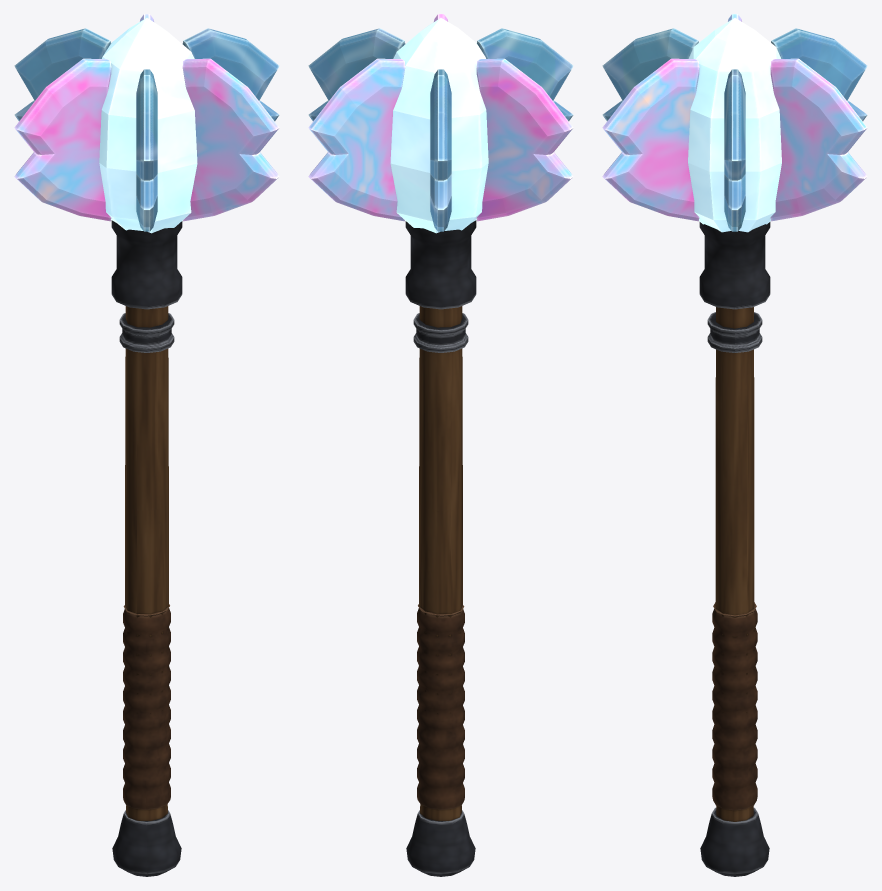
Rendered from crystal-weapon-mace.glb.
3 renders of one model, left to right at view 1: azimuth 30°, elevation 25°; view 2: azimuth 150°, elevation 25°; view 3: azimuth 270°, elevation 25°, orthographic.
Visible parts, largest first — view 1: head-core, haft, striker-3, striker-5, grip-wrap, neck, pommel, striker-2, striker-4, striker-0; view 2: head-core, haft, striker-3, striker-1, grip-wrap, neck, pommel, striker-4, striker-2, striker-0; view 3: head-core, haft, striker-1, striker-5, grip-wrap, neck, pommel, striker-0, striker-2, striker-4.
Boxes of the visible parts, left/top/right/bottom form: head-core: left=99, top=18, right=197, bottom=233; haft: left=125, top=306, right=168, bottom=820; striker-3: left=14, top=58, right=111, bottom=221; striker-5: left=182, top=58, right=279, bottom=221; grip-wrap: left=123, top=604, right=170, bottom=809; neck: left=111, top=220, right=182, bottom=352; pommel: left=112, top=810, right=181, bottom=876; striker-2: left=14, top=28, right=110, bottom=121; striker-4: left=136, top=69, right=157, bottom=231; striker-0: left=182, top=28, right=279, bottom=121; head-core: left=390, top=18, right=488, bottom=233; haft: left=419, top=306, right=462, bottom=820; striker-3: left=476, top=58, right=573, bottom=221; striker-1: left=308, top=58, right=405, bottom=221; grip-wrap: left=417, top=604, right=464, bottom=809; neck: left=405, top=220, right=476, bottom=352; pommel: left=406, top=810, right=475, bottom=876; striker-4: left=477, top=28, right=573, bottom=121; striker-2: left=430, top=69, right=451, bottom=231; striker-0: left=308, top=28, right=405, bottom=121; head-core: left=688, top=18, right=781, bottom=232; haft: left=715, top=307, right=754, bottom=821; striker-1: left=770, top=58, right=867, bottom=221; striker-5: left=602, top=58, right=699, bottom=221; grip-wrap: left=712, top=602, right=757, bottom=810; neck: left=699, top=222, right=770, bottom=352; pommel: left=700, top=807, right=769, bottom=876; striker-0: left=724, top=69, right=745, bottom=231; striker-2: left=771, top=28, right=867, bottom=121; striker-4: left=602, top=28, right=698, bottom=121.
Size of the model in its own units: 0.42 by 1.3 by 0.3677.
Materials: 11 (11 with a texture image).
